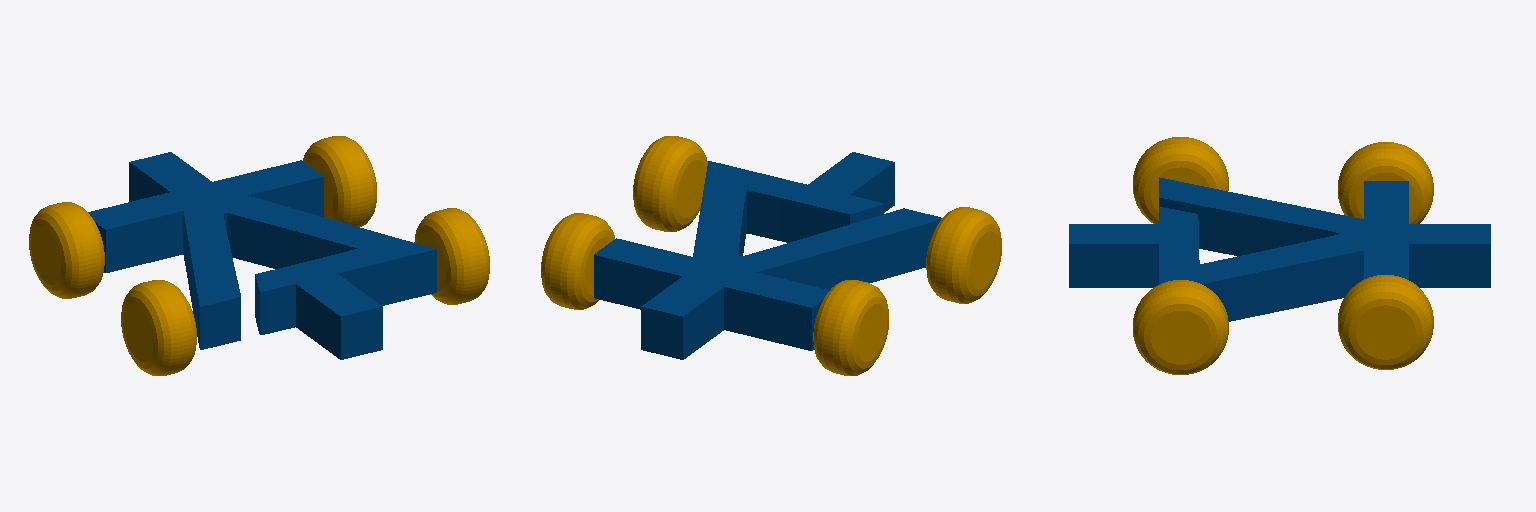
The model's file is diode.obj.
3 views of the same model, side by side, from view 1: azimuth 30°, elevation 25°; view 2: azimuth 150°, elevation 25°; view 3: azimuth 270°, elevation 25° (orthographic).
Visible parts, largest first — view 1: Diode, WheelFL, WheelRL, WheelRR, WheelFR; view 2: Diode, WheelRL, WheelFL, WheelRR, WheelFR; view 3: Diode, WheelFR, WheelRR, WheelFL, WheelRL.
Boxes of the visible parts, box(x1,y1,x2,y2) form: Diode: box(88, 152, 436, 359); WheelFL: box(29, 202, 104, 298); WheelRL: box(121, 280, 196, 375); WheelRR: box(414, 208, 489, 304); WheelFR: box(303, 136, 376, 226); Diode: box(594, 152, 941, 359); WheelRL: box(926, 207, 1001, 303); WheelFL: box(813, 280, 888, 375); WheelRR: box(633, 136, 707, 231); WheelFR: box(541, 213, 614, 309); Diode: box(1069, 177, 1490, 321); WheelFR: box(1338, 275, 1433, 369); WheelRR: box(1133, 280, 1228, 374); WheelFL: box(1338, 142, 1433, 223); WheelRL: box(1133, 137, 1228, 223).
Bounding box in the file's own units: 6.44 × 1.6 × 7.05.